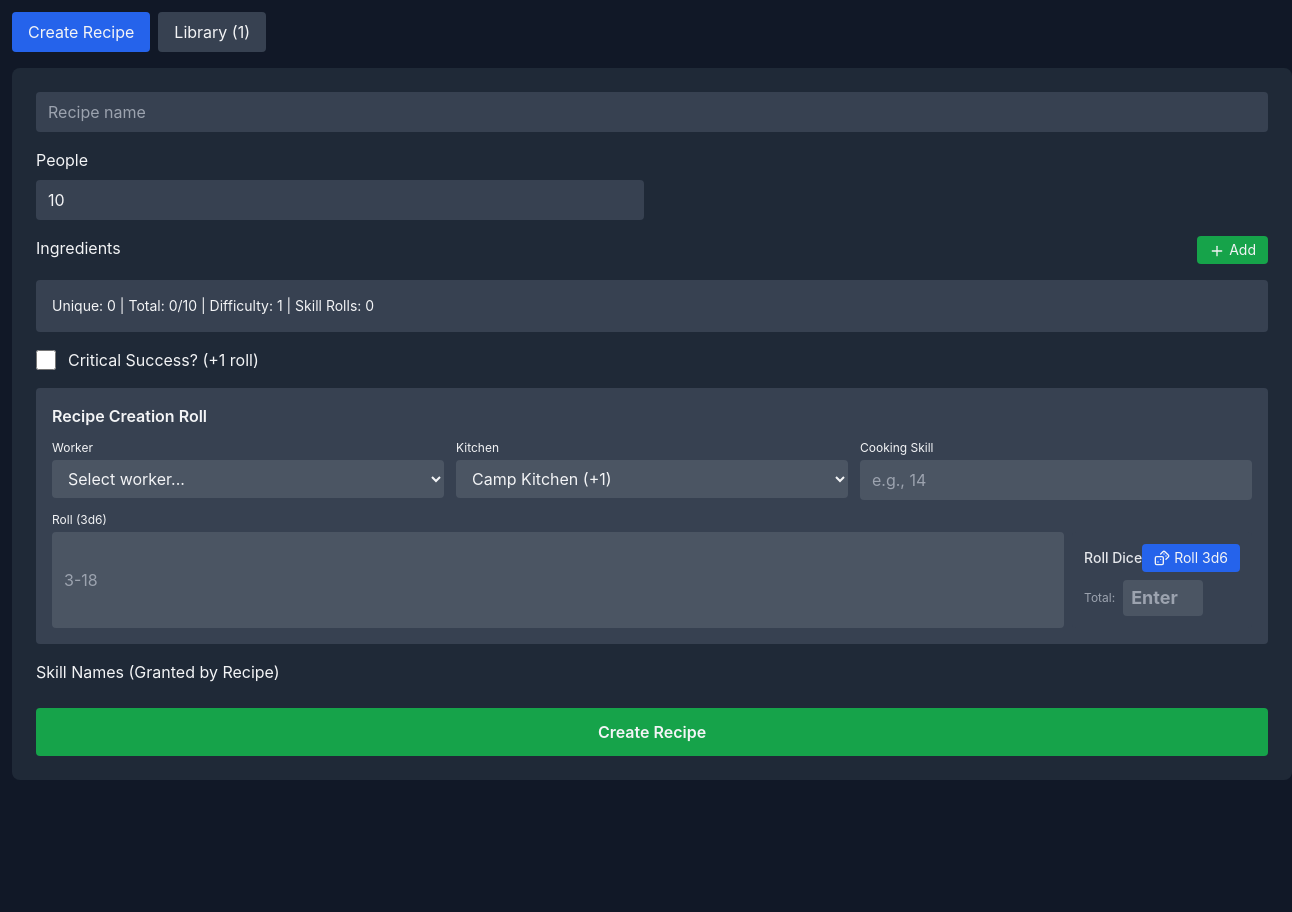
Test: CookingTab router › switches from the library into remake view
Click the button "Library (1)" at (212, 32), box x1=158 y1=12 x2=266 y2=52
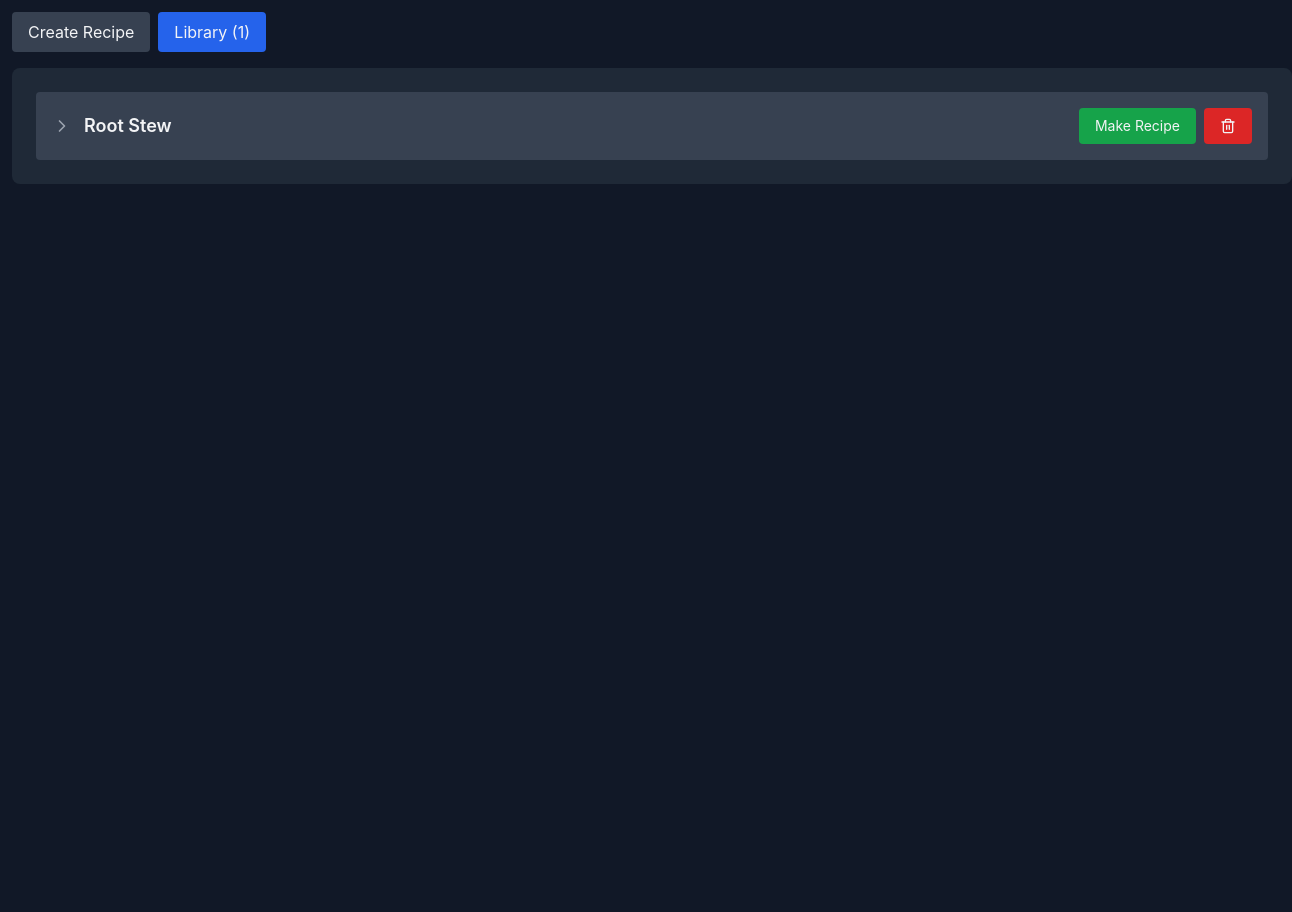
Click the button "Make Recipe" at (1137, 126), box x1=1079 y1=108 x2=1196 y2=144
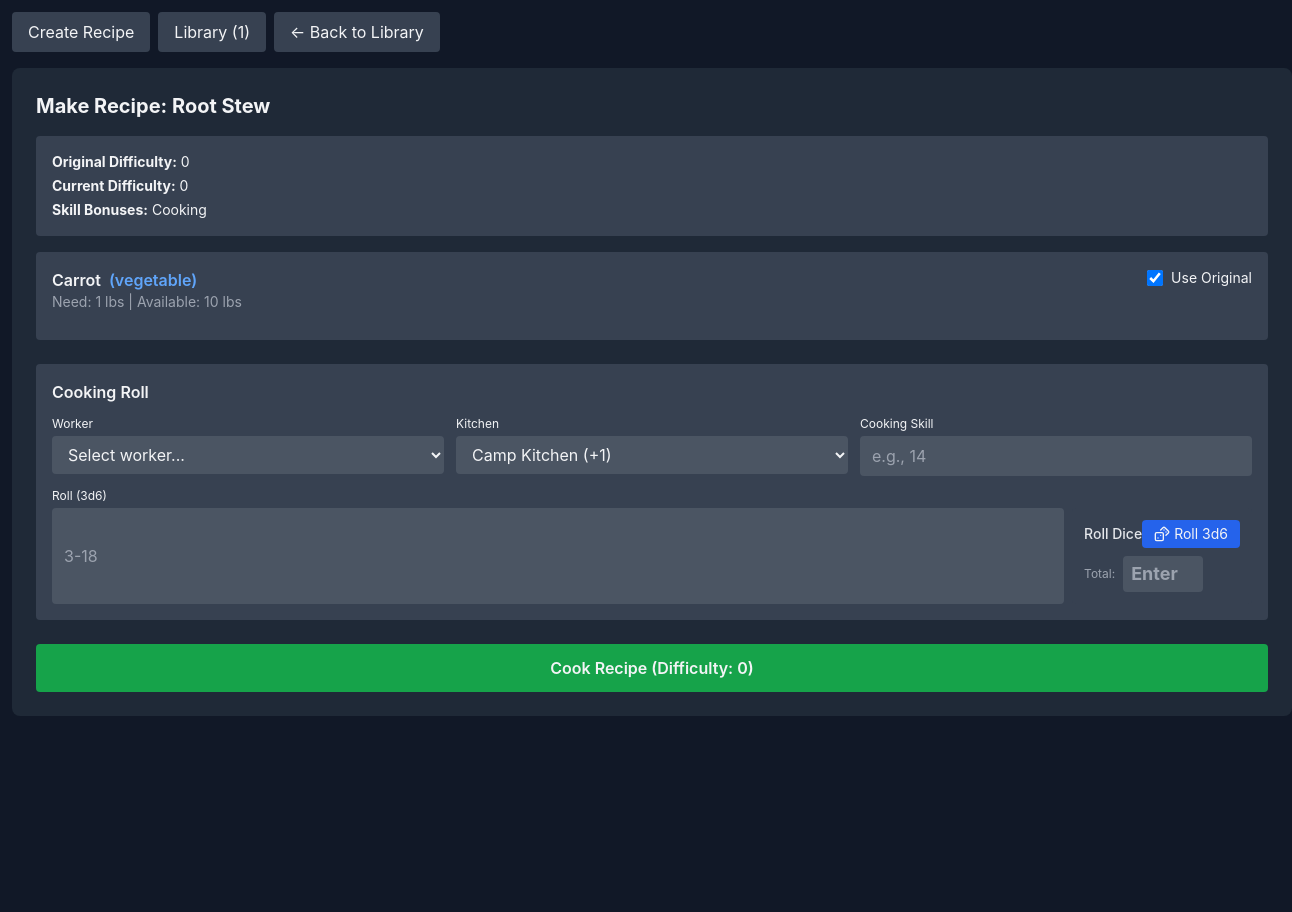
Now the heading "Make Recipe: Root Stew" is shown, box x1=36 y1=94 x2=270 y2=118
Now the button "← Back to Library" is shown, box x1=274 y1=12 x2=440 y2=52
